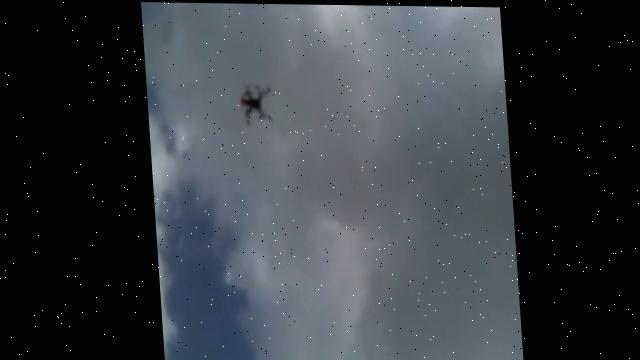drone: (236, 81, 275, 129)
